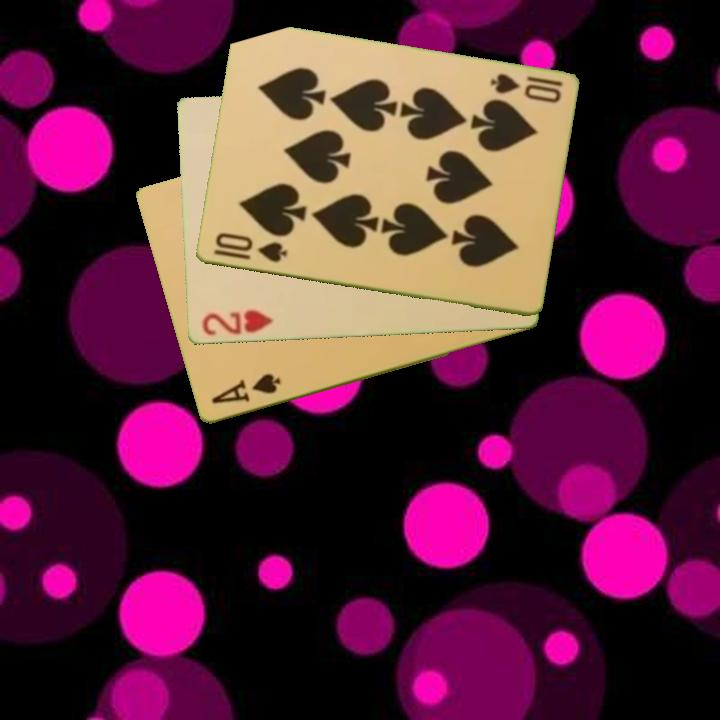10s: (211, 229, 290, 266), (486, 70, 565, 107)
2h: (198, 306, 276, 339)
As: (207, 370, 283, 408)
